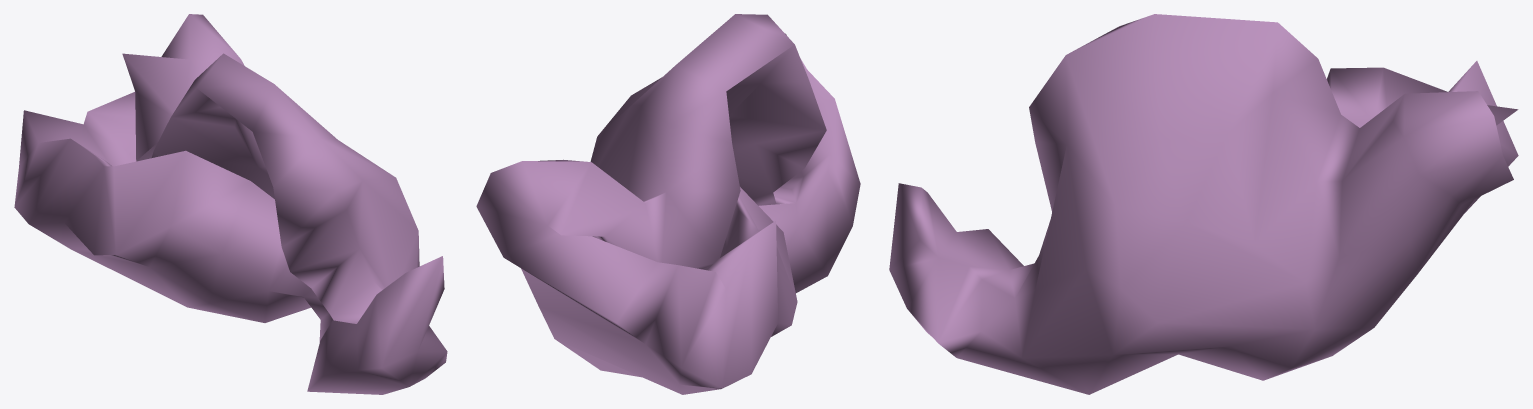
The picture shows the model from 3 angles, left to right: view 1: azimuth 30°, elevation 25°; view 2: azimuth 150°, elevation 25°; view 3: azimuth 270°, elevation 25°; orthographic projection. The views are drawn at different scales.
Visible parts, largest first — view 1: 右侧枕前沟; view 2: 右侧枕前沟; view 3: 右侧枕前沟.
Boxes of the visible parts, box(x1,y1,x2,y2) form: 右侧枕前沟: box(14, 14, 447, 394); 右侧枕前沟: box(476, 14, 860, 394); 右侧枕前沟: box(889, 14, 1518, 394).
Size of the model in its own units: 0.0208 by 0.0219 by 0.036.
